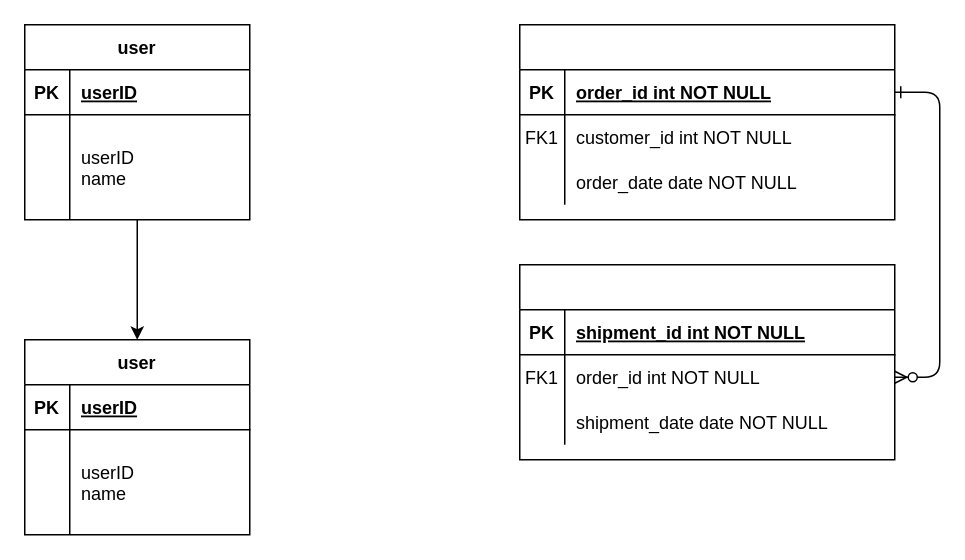
Some shapes in this 965 by 560 pixel diagram are drawn without their labels. Each missing label, with the box of its shape:
Orders: (518, 23, 895, 220)
Shipments: (518, 263, 895, 460)
